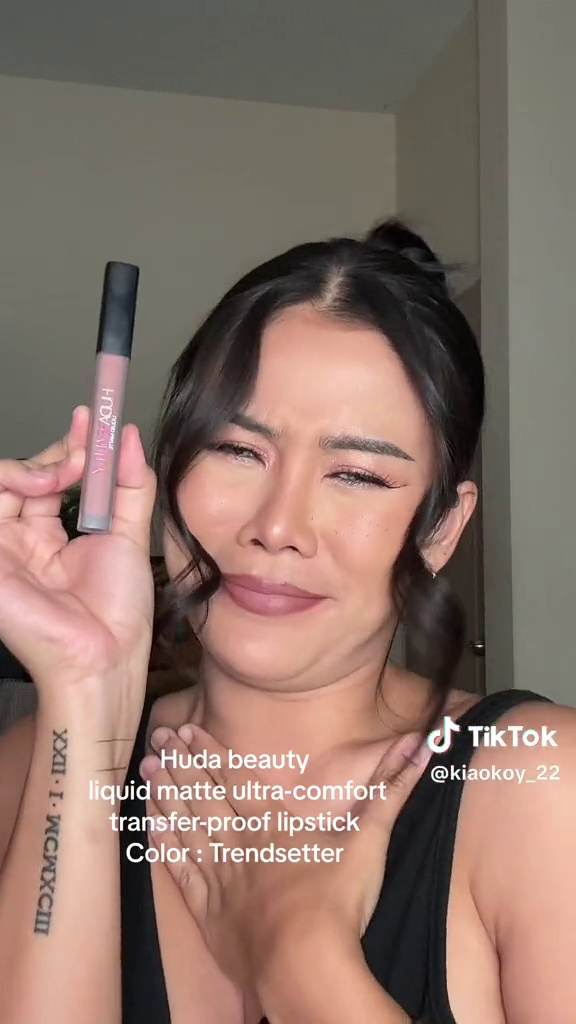train' :'yolo_data/train/images',: (65, 255, 148, 538)
